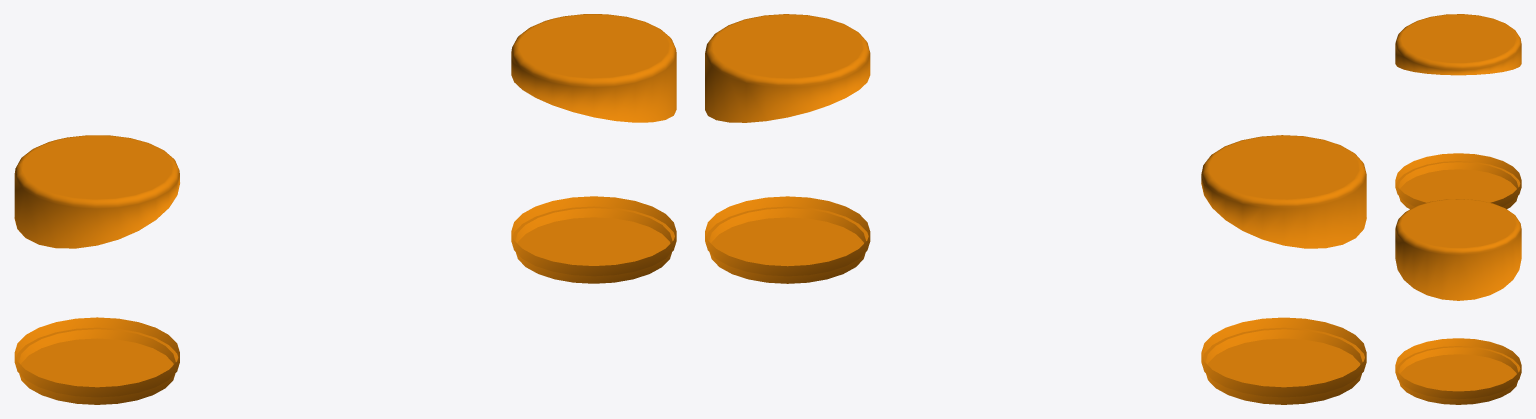
3 views of the same model, side by side, from view 1: azimuth 30°, elevation 25°; view 2: azimuth 150°, elevation 25°; view 3: azimuth 270°, elevation 25° (orthographic). The views are drawn at different scales.
Bounding box in the file's own units: 0.5258 × 0.1603 × 0.118.
